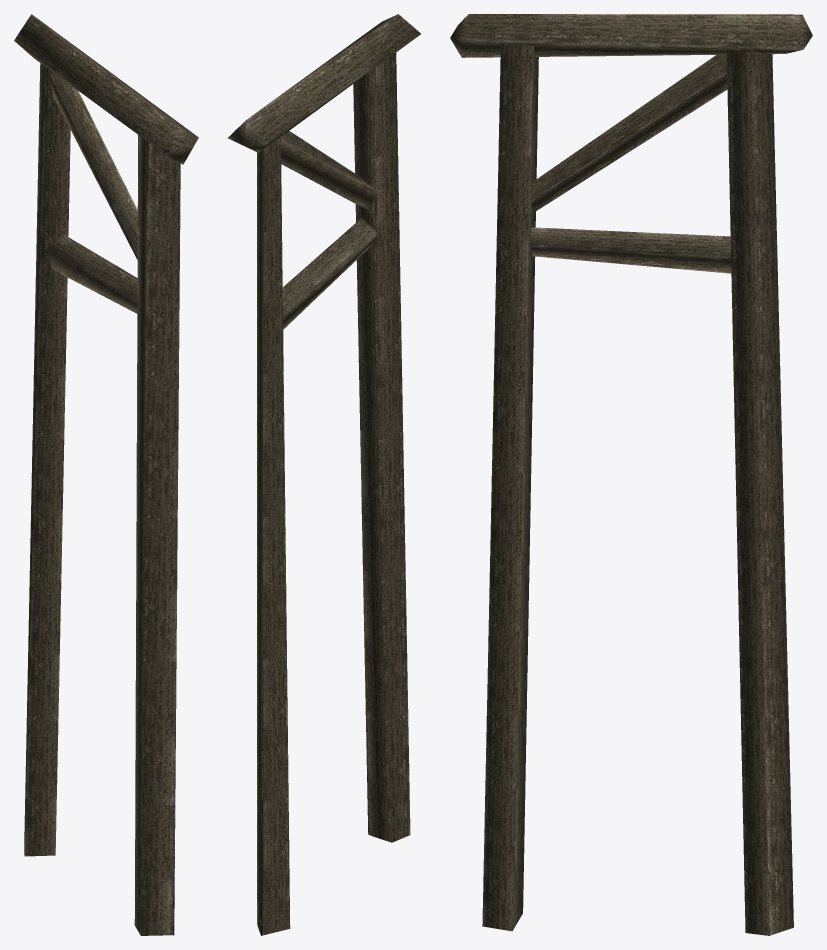
The model's file is MIN_LOB_BRIDGESTAND.glb.
3 renders of one model, left to right at view 1: azimuth 30°, elevation 25°; view 2: azimuth 150°, elevation 25°; view 3: azimuth 270°, elevation 25°, orthographic. The views are drawn at different scales.
Parts seen in each view (by area): view 1: Mesh; view 2: Mesh; view 3: Mesh.
Boxes of the visible parts, x1,y1,x2,y2 form: Mesh: [14, 14, 198, 935]; Mesh: [227, 14, 420, 935]; Mesh: [450, 14, 812, 935].
Bounding box in the file's own units: 0.8771 × 14.83 × 5.31.
Materials: 1 (1 with a texture image).
